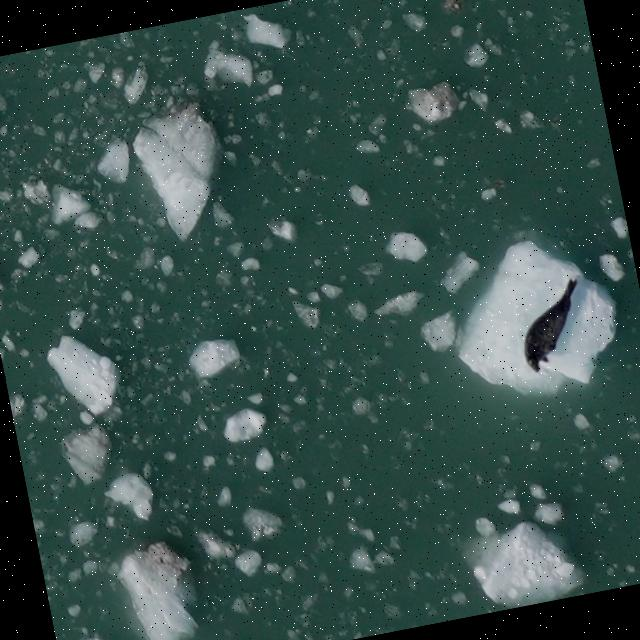seal: (510, 275, 595, 378)
